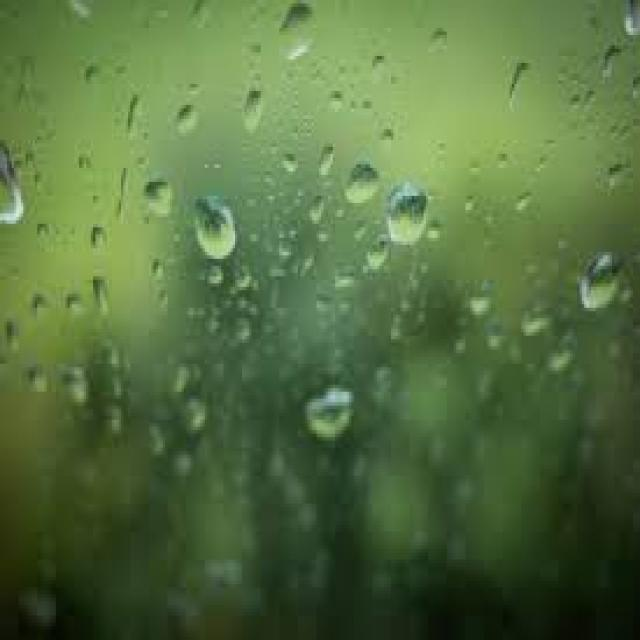raindrop: (293, 374, 367, 450), (192, 186, 245, 266), (386, 170, 434, 254), (574, 245, 628, 319), (272, 0, 324, 70), (0, 132, 33, 242), (342, 149, 390, 217), (140, 172, 180, 236), (162, 91, 206, 149), (237, 82, 272, 148)
